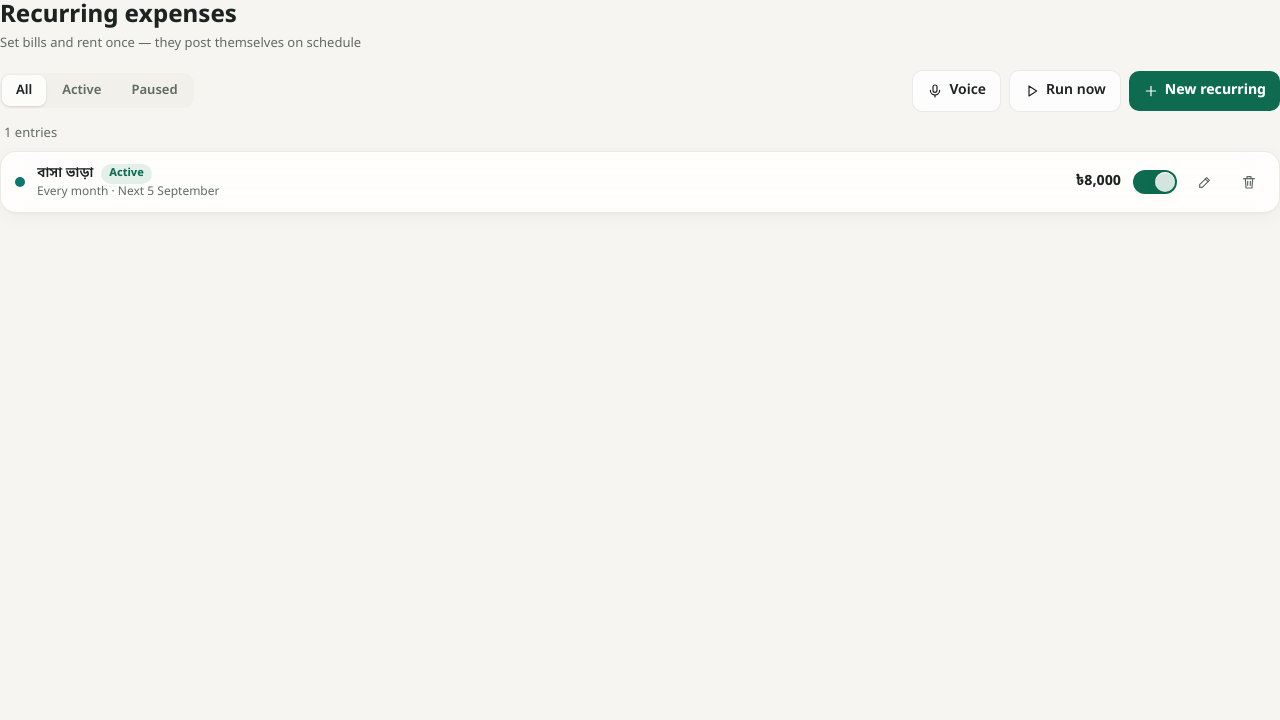
Test case: Recurring screen › edits a rule through the same dialog (PATCH with the new amount)
Expected: the text "বাসা ভাড়া" is shown, [37, 164, 93, 183]
Click the button named "বাসা ভাড়া — Edit" at (1205, 182), box [1189, 166, 1221, 198]
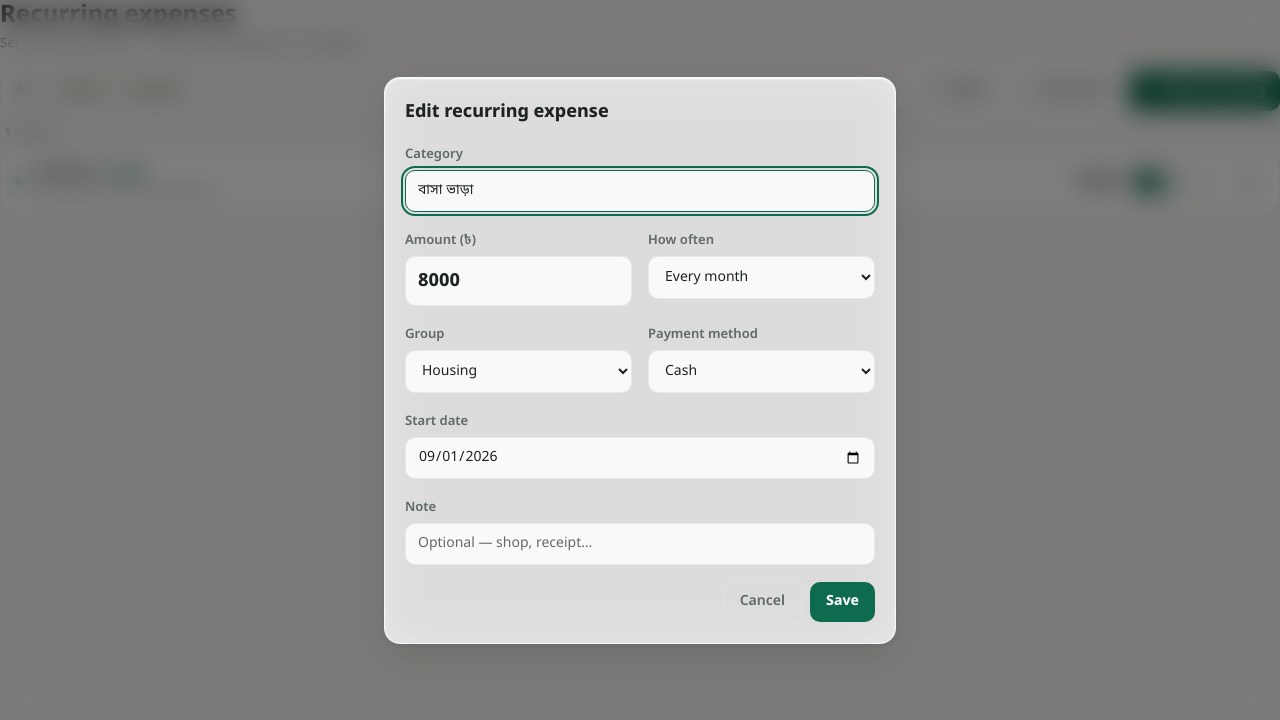
Now the dialog is shown, box [384, 76, 896, 644]
Replace the text in the field labelled "Amount (৳)" with "9000" at (518, 280), box [405, 256, 632, 306]
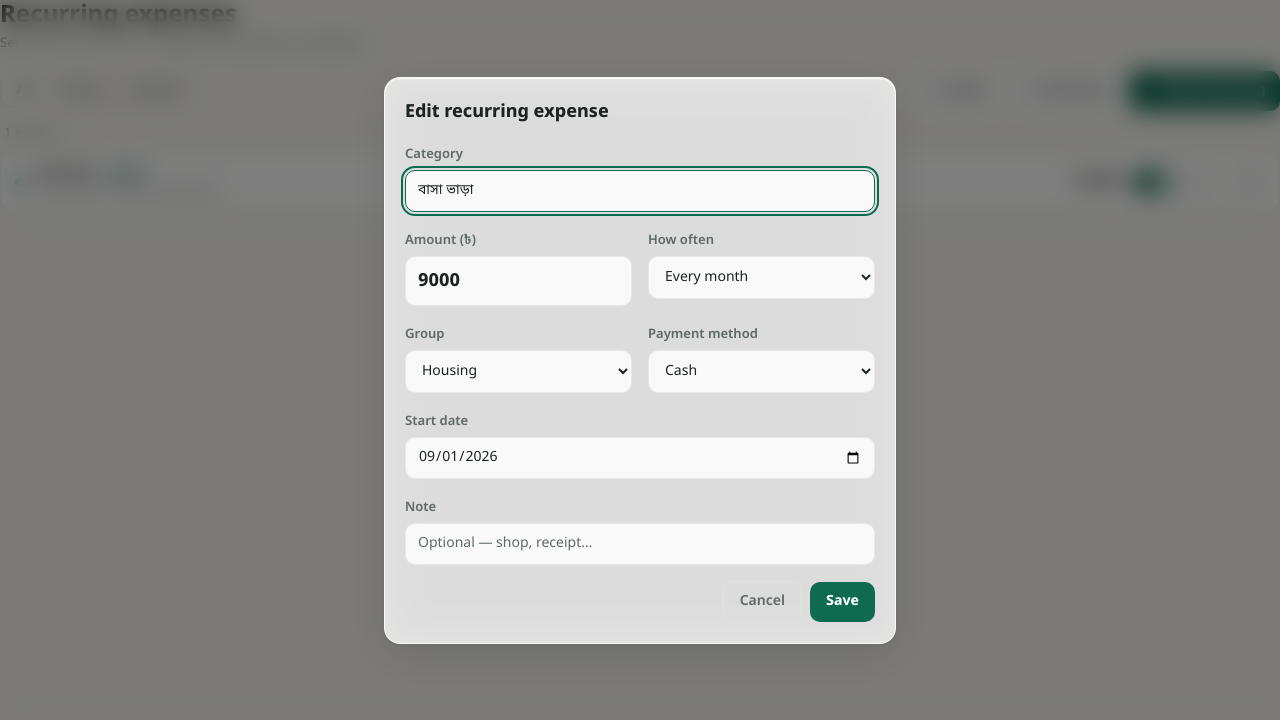
Click the button "Save" at (843, 602), box [810, 582, 875, 622]
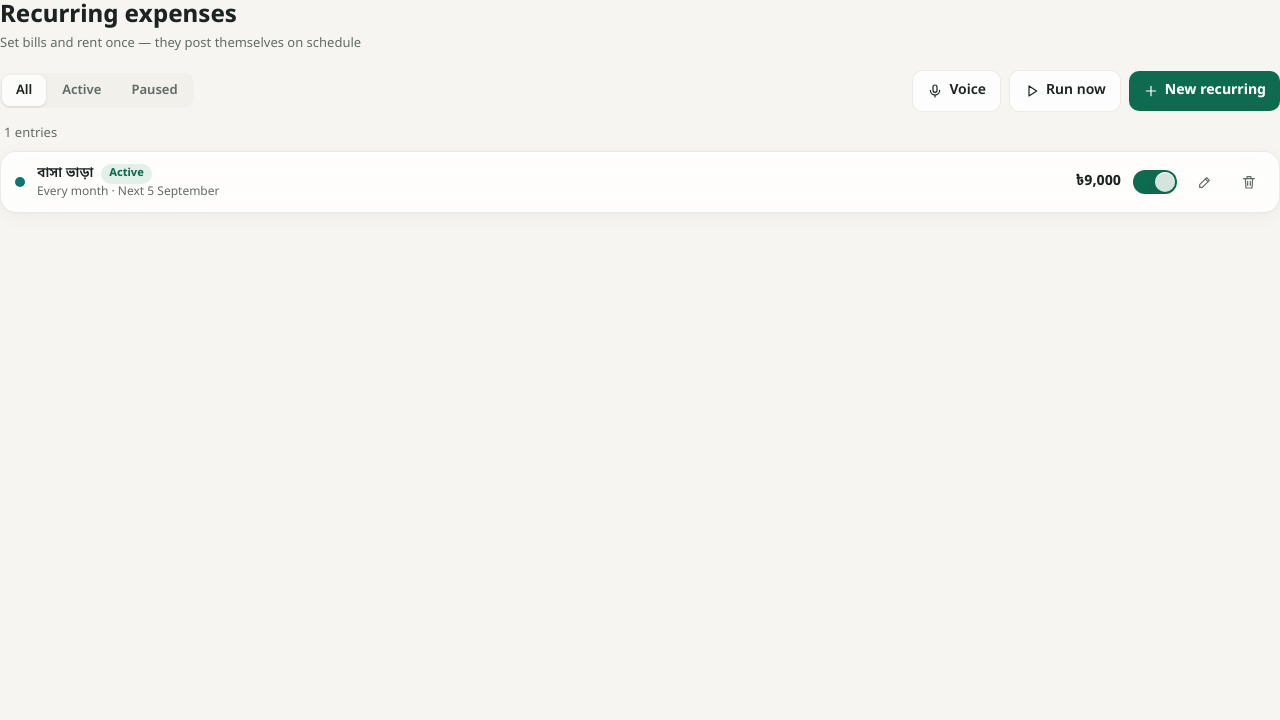
Now the text "৳9,000" is shown, box [1076, 172, 1121, 192]
